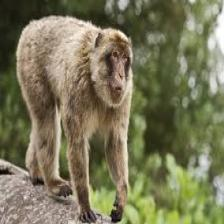monkey: (18, 14, 139, 224)
